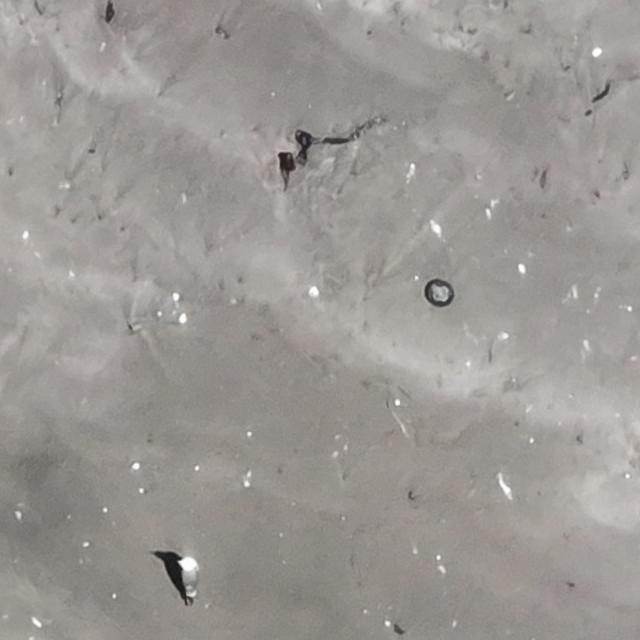umineko: (181, 557, 200, 598)
